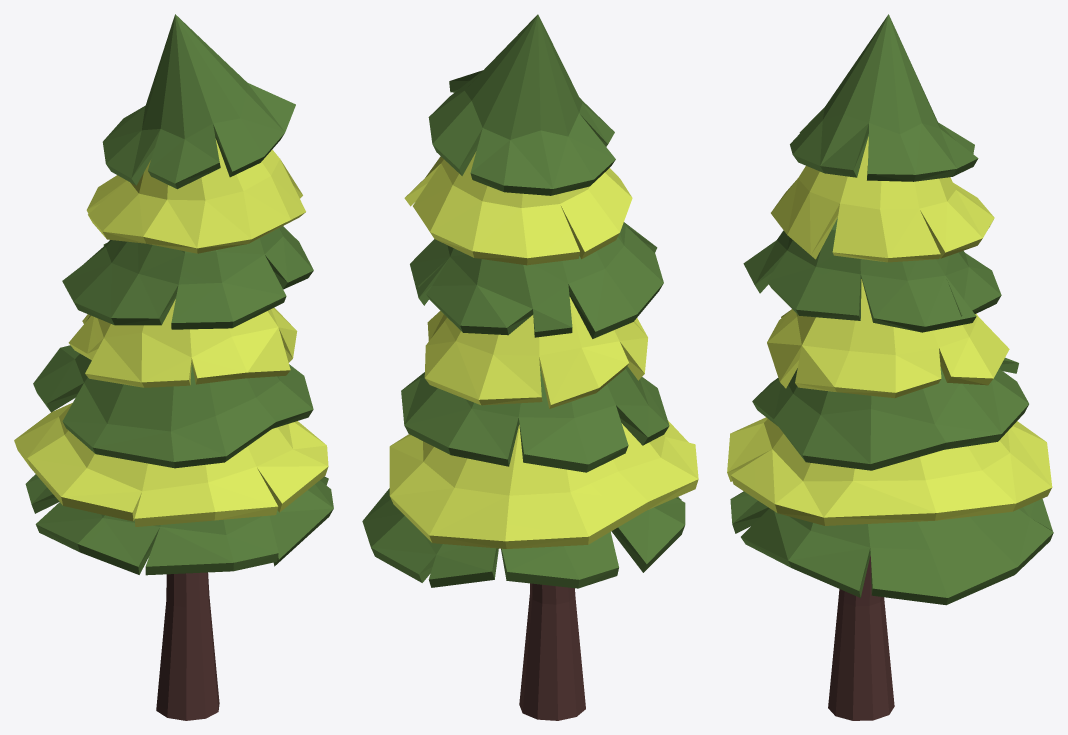
File: Conifer Tree_6.fbx
3 views of the same model, side by side, from view 1: azimuth 30°, elevation 25°; view 2: azimuth 150°, elevation 25°; view 3: azimuth 270°, elevation 25° (orthographic). The views are drawn at different scales.
Parts seen in each view (by area): view 1: Conifer Tree_6; view 2: Conifer Tree_6; view 3: Conifer Tree_6.
Part boxes in pixels (x1,y1,x2,y2): Conifer Tree_6: (14, 14, 333, 720); Conifer Tree_6: (362, 14, 698, 720); Conifer Tree_6: (727, 14, 1053, 720).
Size of the model in its own units: 2.02 by 4.69 by 2.
